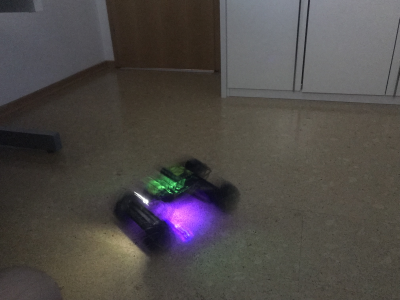remote control car: (109, 146, 244, 252)
